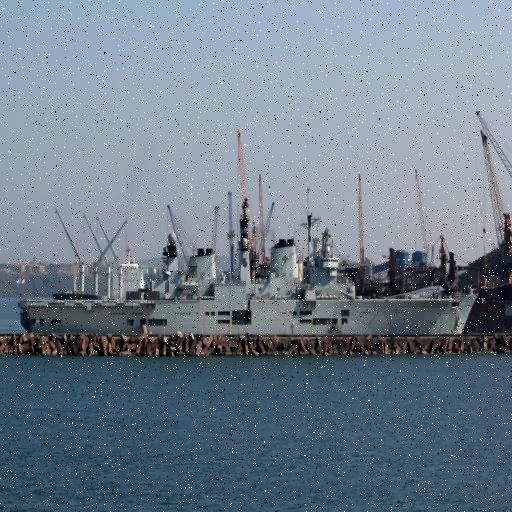Portanaves: (16, 219, 488, 337)
